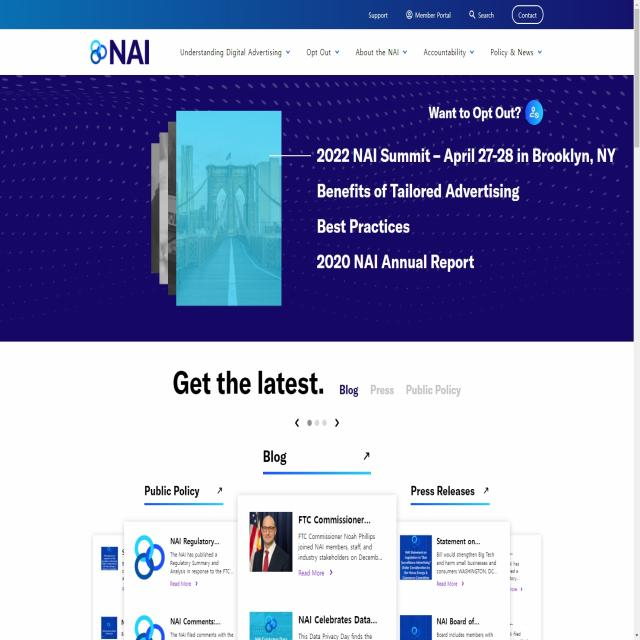menu-bar: (175, 38, 547, 62), (364, 3, 545, 26)
menu-panel: (334, 375, 466, 404)
